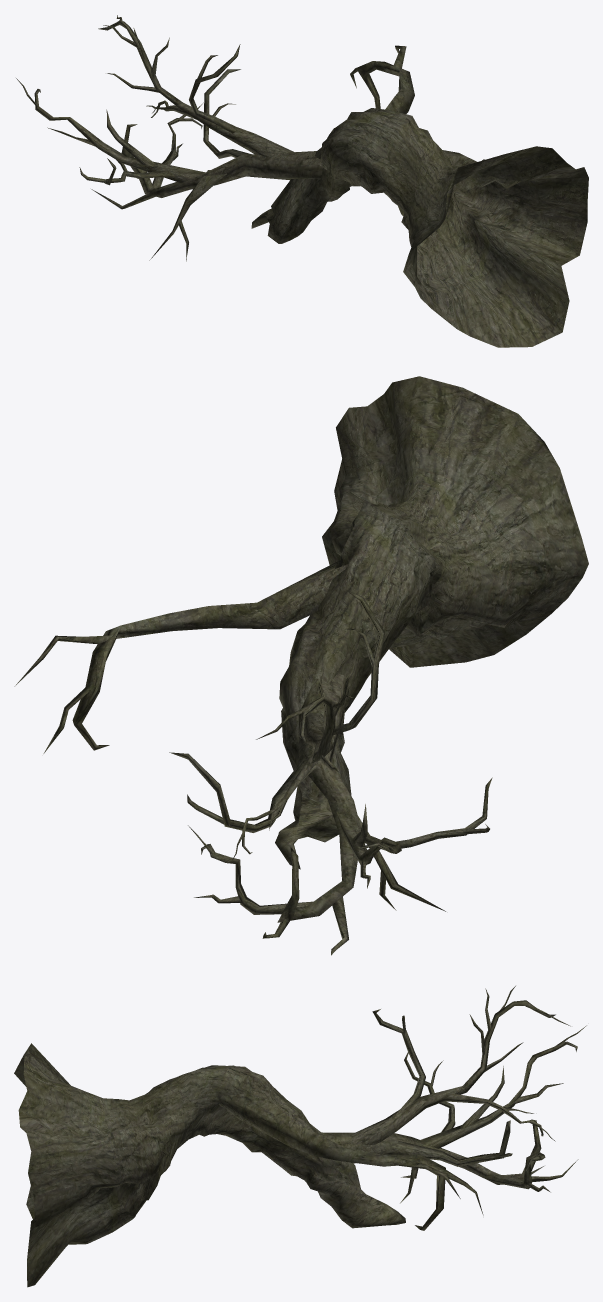
The model's file is TI_Old_Tree_05.fbx.
3 renders of one model, top to bottom at view 1: azimuth 30°, elevation 25°; view 2: azimuth 150°, elevation 25°; view 3: azimuth 270°, elevation 25°, orthographic. The views are drawn at different scales.
Visible parts, largest first — view 1: TI_Old_Tree_05; view 2: TI_Old_Tree_05; view 3: TI_Old_Tree_05.
Part boxes in pixels (box(x1,y1,x2,y2)): TI_Old_Tree_05: box(16, 15, 588, 347); TI_Old_Tree_05: box(14, 376, 588, 955); TI_Old_Tree_05: box(14, 986, 586, 1287).
Bounding box in the file's own units: 7.37 × 4.56 × 10.85.
